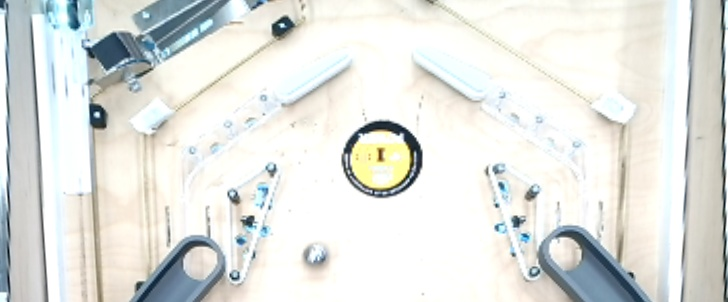ball: (296, 242, 335, 274)
flipper-left: (409, 47, 498, 108)
flipper-right: (269, 52, 356, 113)
